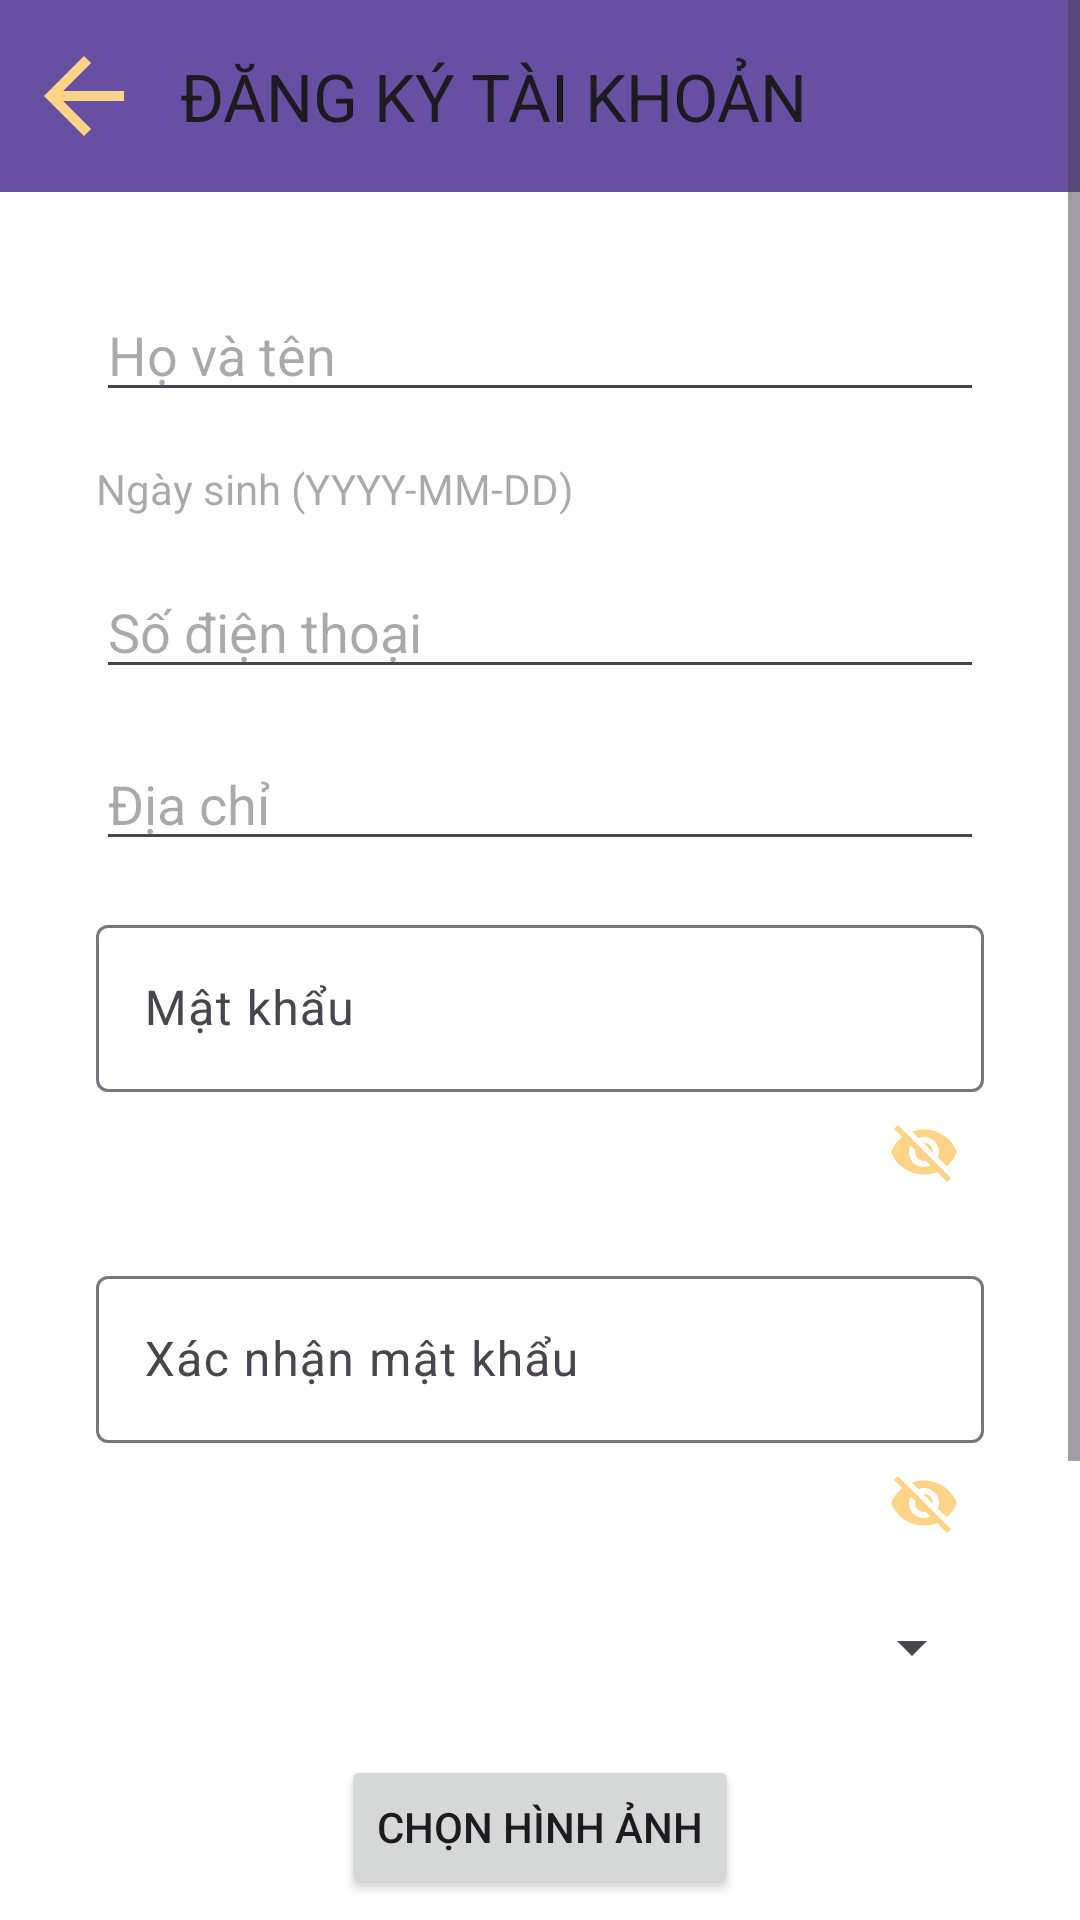

Named icons in this screenshot (1080 × 1920) and their bounding boxes, (x1, y1, x2, y2):
Toggle password visibility: (891, 1125, 957, 1182), (891, 1476, 957, 1533)
